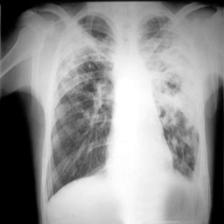tuberculosis: (37, 5, 209, 207)
